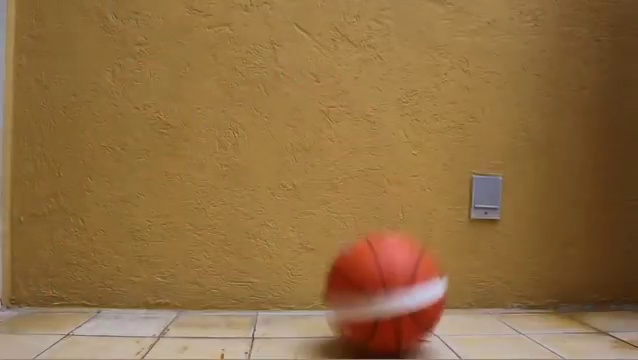ball: (323, 232, 449, 360)
